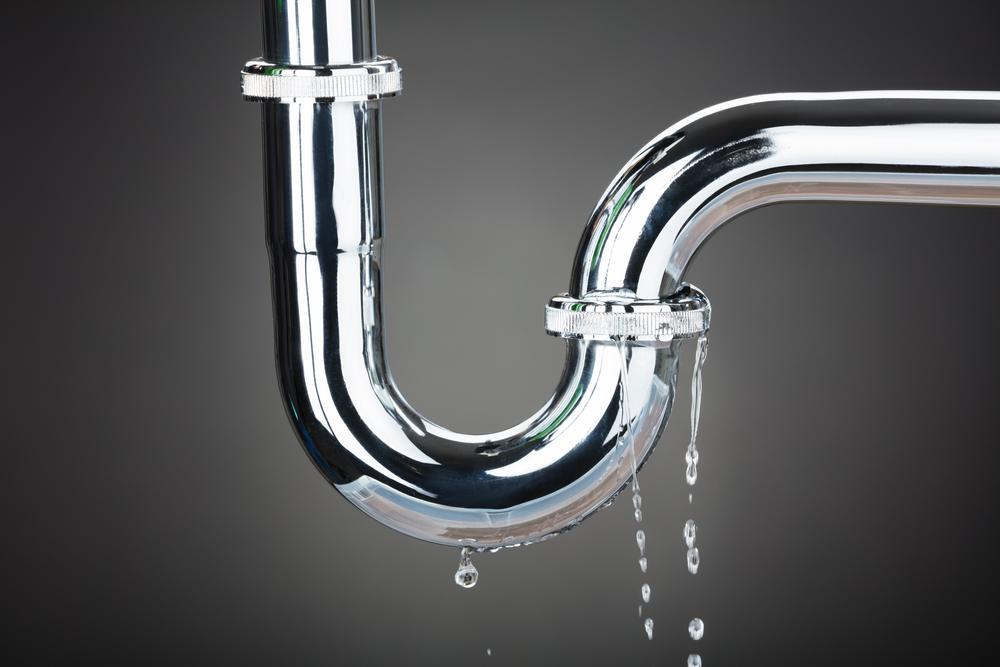water drop: (450, 544, 479, 590), (681, 445, 703, 484), (679, 516, 700, 548), (682, 618, 706, 640), (684, 548, 702, 576), (684, 649, 709, 667), (640, 616, 657, 642), (634, 529, 650, 554), (638, 581, 654, 602), (632, 494, 643, 520), (637, 556, 652, 572)
